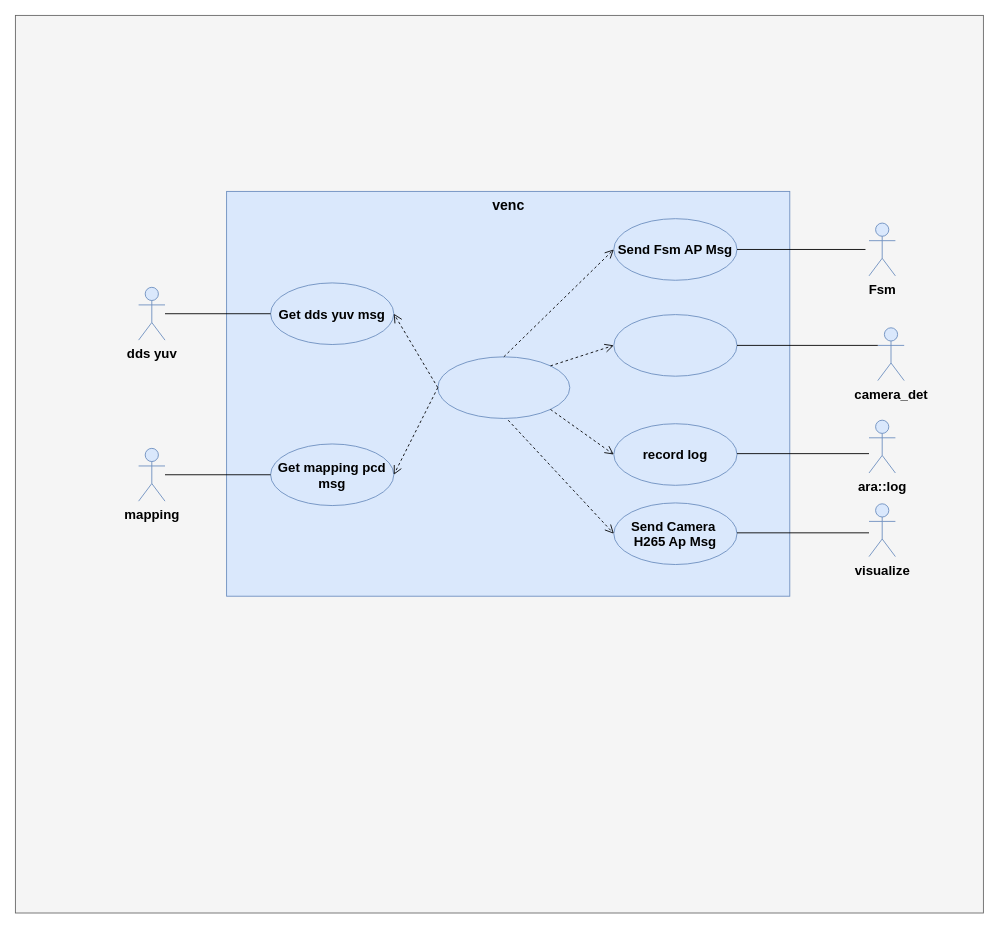
The diagram is 999 pixels wide and 928 high, and some of its shapes have lost their labels. The centre of each missing label's shape, as x and y in pixels:
Send Camera YUV AP Msg: point 675,345
venc Process: point 503,387
